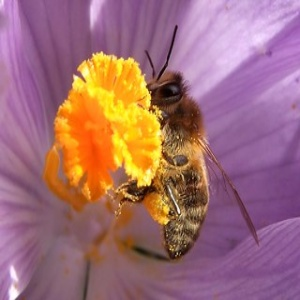bee: (132, 25, 262, 279)
